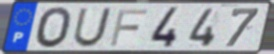4: (148, 5, 180, 50), (187, 7, 218, 49)
7: (224, 7, 262, 48)
F: (108, 8, 150, 48)
O: (33, 6, 74, 50)
U: (71, 7, 114, 49)
